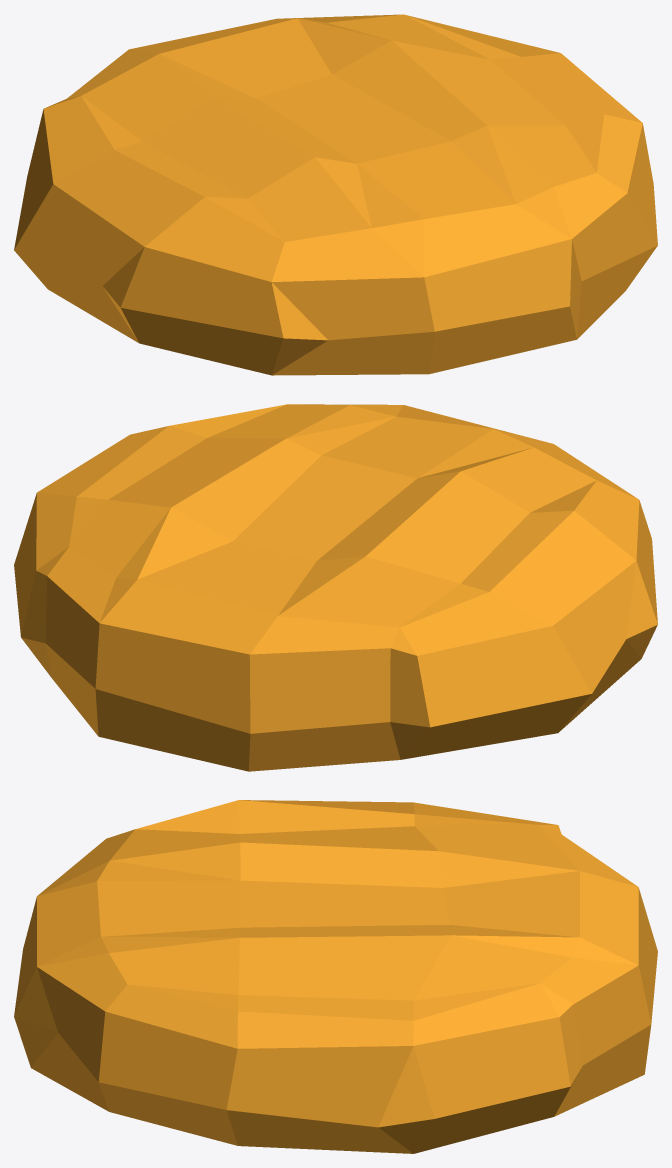
File: SM_Meat_Burger_Raw.fbx
3 views of the same model, one above another, from view 1: azimuth 30°, elevation 25°; view 2: azimuth 150°, elevation 25°; view 3: azimuth 270°, elevation 25° (orthographic).
Parts seen in each view (by area): view 1: meat-burger-raw; view 2: meat-burger-raw; view 3: meat-burger-raw.
Boxes of the visible parts, <box> form: meat-burger-raw: <box>14,14,657,375</box>; meat-burger-raw: <box>14,404,657,771</box>; meat-burger-raw: <box>14,800,657,1153</box>.
Size of the model in its own units: 0.1725 by 0.0481 by 0.1659.
